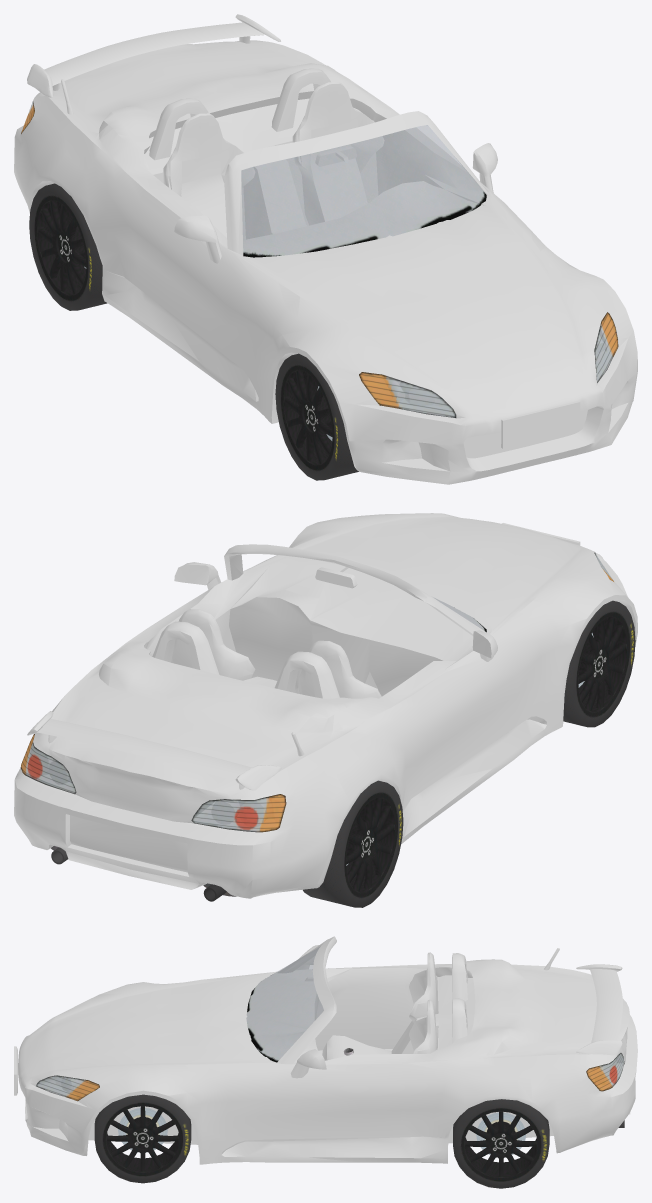
Rendered from S2000CRTurbo_c729c41e3d32.glb.
3 views of the same model, one above another, from view 1: azimuth 30°, elevation 25°; view 2: azimuth 150°, elevation 25°; view 3: azimuth 270°, elevation 25° (orthographic). The views are drawn at different scales.
Visible parts, largest first — view 1: BODY, WHEEL_3, WHEEL_1; view 2: BODY, WHEEL_3, WHEEL_1; view 3: BODY, WHEEL_2, WHEEL_0.
Boxes of the visible parts, box(x1,y1,x2,y2) form: BODY: box(14, 14, 637, 484); WHEEL_3: box(29, 183, 107, 310); WHEEL_1: box(275, 353, 358, 480); BODY: box(14, 513, 637, 901); WHEEL_3: box(303, 780, 403, 907); WHEEL_1: box(563, 600, 635, 727); BODY: box(14, 936, 637, 1164); WHEEL_2: box(453, 1099, 549, 1188); WHEEL_0: box(94, 1094, 191, 1183).
Size of the model in its own units: 1.79 by 1.2 by 4.08.
16 materials, 15 textured.
